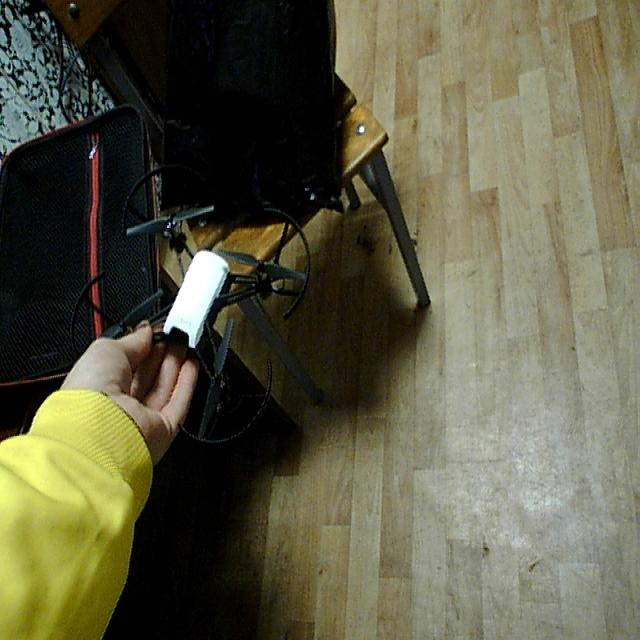drone: (65, 155, 335, 466)
